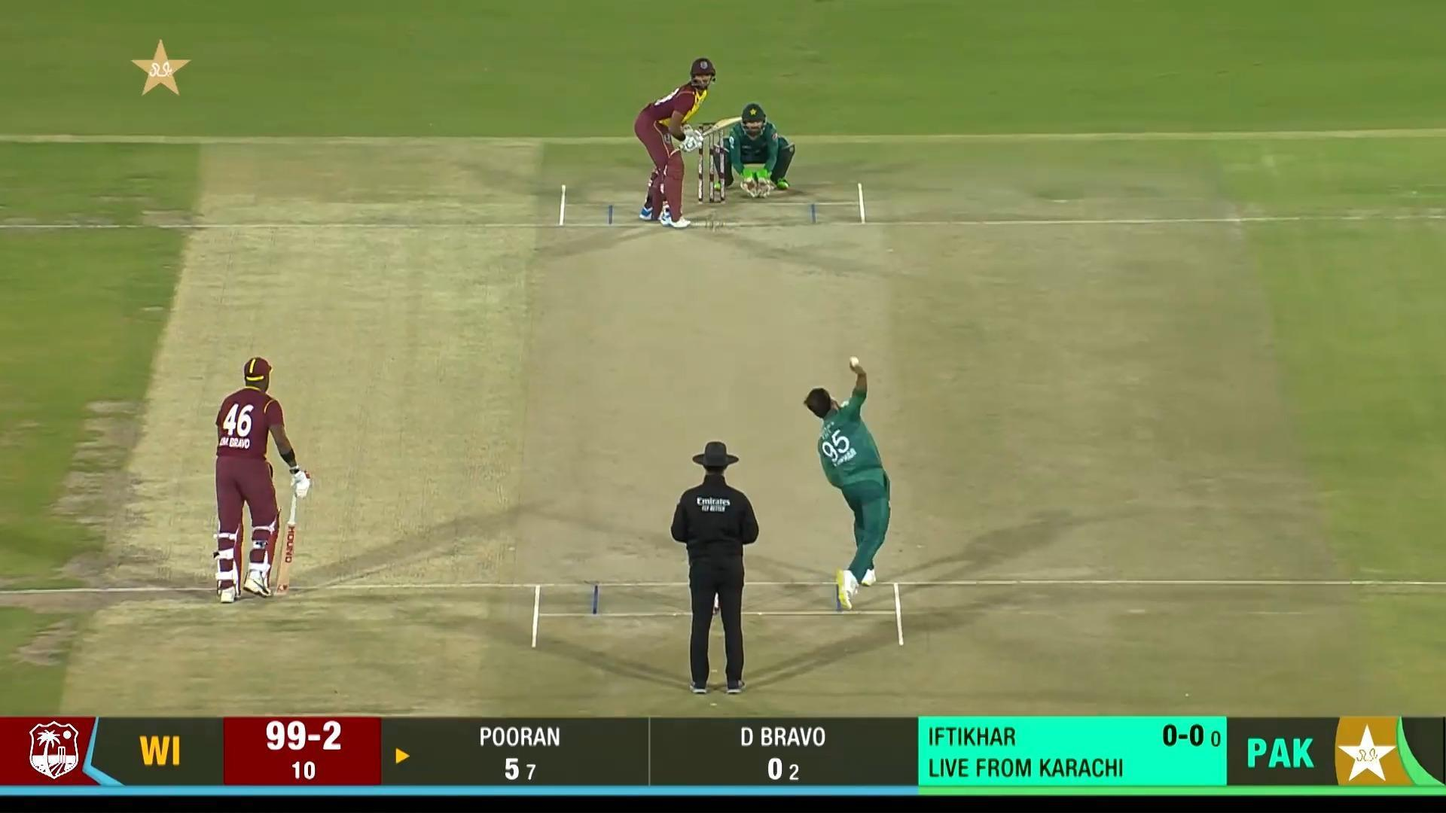BM 1: (634, 56, 744, 230)
BO: (803, 359, 891, 611)
